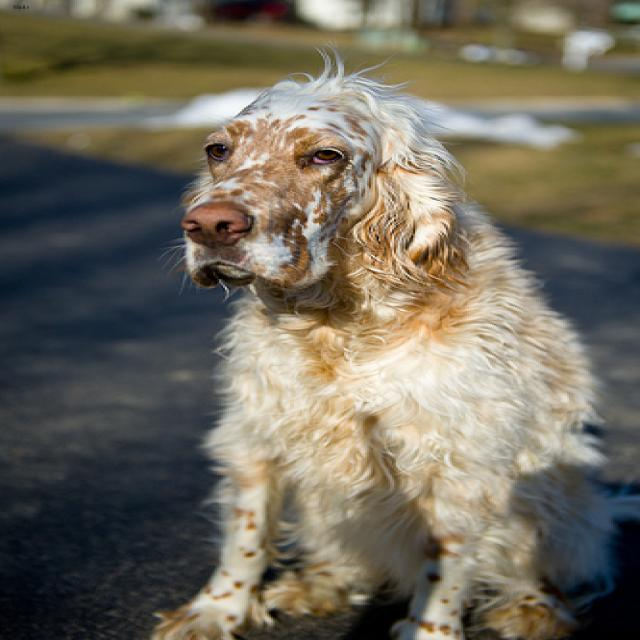dog-english_setter: (133, 41, 636, 637)
